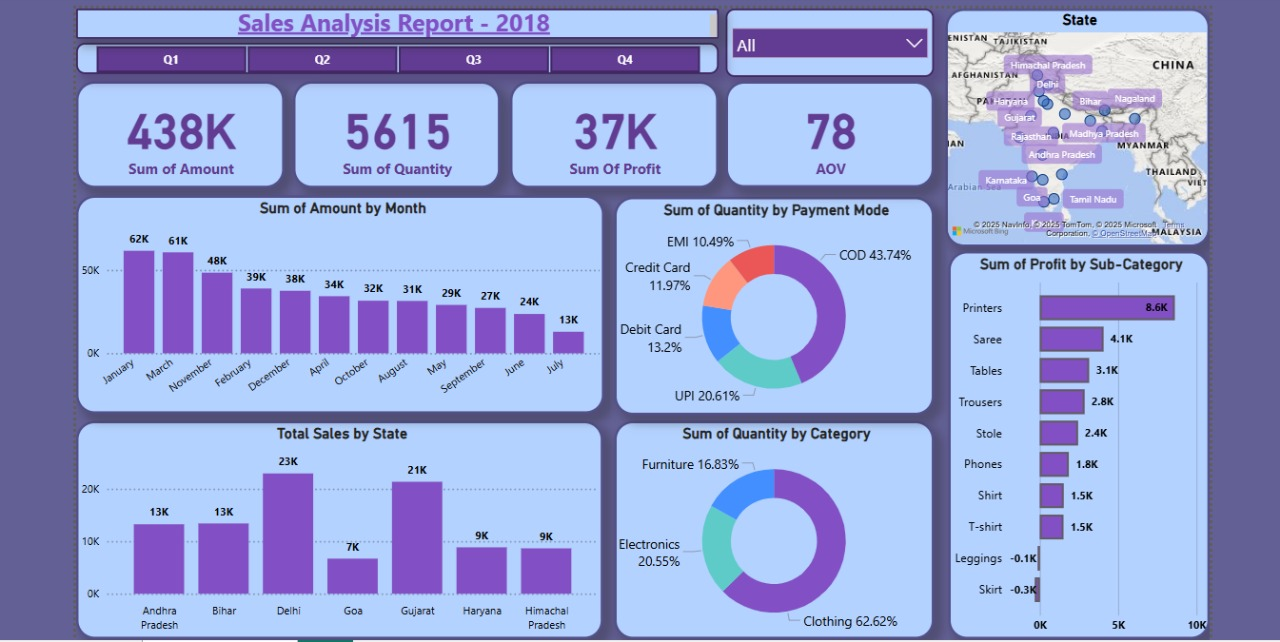

The page's visual inventory and layout, read from the dashboard file:
{"tool":"powerbi","page":{"name":"Sales Report","canvas":[1280,720],"ordinal":0},"visuals":[{"type":"card","fields":{"Values":["Sum(Details.Amount)"]},"box":[0,83,235.5,121],"z":0},{"type":"card","fields":{"Values":["Details.Sum of Quantity"]},"box":[245.2,83,233.9,121],"z":1000},{"type":"card","fields":{"Values":["Details.Sum Of Profit"]},"box":[490.3,83,235.5,121],"z":2000},{"type":"map","fields":{"Category":["Orders.State"]},"box":[982.3,0,298.4,269.4],"z":3000},{"type":"slicer","fields":{"Values":["Orders.State"]},"box":[733.9,0,235.5,77.4],"z":4000},{"type":"columnChart","title":"Total Sales by State","fields":{"Y":["Orders.Total Sales by State"],"Category":["Orders.State"]},"box":[0,466.1,595.2,246.8],"z":5000},{"type":"clusteredColumnChart","fields":{"Y":["Details.Sum of Amount"],"Category":["Orders.Month"]},"box":[0,211.3,596.8,246.8],"z":6000},{"type":"donutChart","title":"Sum of Quantity by Category","fields":{"Y":["Details.Total Quantity by Category"],"Category":["Details.Category"]},"box":[608.1,466.1,361.3,246.8],"z":7000},{"type":"donutChart","title":"Sum of Quantity by Payment Mode","fields":{"Y":["Details.Total Quantity by Payment Mode"],"Category":["Details.PaymentMode"]},"box":[608.1,212.9,361.3,246.8],"z":8000},{"type":"slicer","title":"Quarter","fields":{"Values":["Orders.QTR"]},"box":[0,38.7,725.8,35],"z":9000},{"type":"clusteredBarChart","title":"Sum of Profit by Sub-Category ","fields":{"Category":["Details.Sub-Category"],"Y":["Details.Sum of Profit by SubCategory"]},"box":[985.5,274.2,295.2,438.7],"z":10000},{"type":"card","fields":{"Values":["Details.AOV"]},"box":[733.9,83,235.5,120],"z":11001},{"type":"textbox","box":[0,0,725.8,34],"z":11002}]}

Visuals, with their boxes in screenshot pixels (x1, y1, x2, y2):
card - Sum(Details.Amount): left=73, top=80, right=281, bottom=186
card - Details.Sum of Quantity: left=289, top=80, right=495, bottom=186
card - Details.Sum Of Profit: left=505, top=80, right=713, bottom=186
map - Orders.State: left=939, top=7, right=1202, bottom=244
slicer - Orders.State: left=720, top=7, right=928, bottom=75
"Total Sales by State" columnChart: left=73, top=417, right=598, bottom=635
clusteredColumnChart - Details.Sum of Amount x Orders.Month: left=73, top=193, right=599, bottom=410
"Sum of Quantity by Category" donutChart: left=609, top=417, right=928, bottom=635
"Sum of Quantity by Payment Mode" donutChart: left=609, top=194, right=928, bottom=412
"Quarter" slicer: left=73, top=41, right=713, bottom=72
"Sum of Profit by Sub-Category " clusteredBarChart: left=942, top=248, right=1202, bottom=635
card - Details.AOV: left=720, top=80, right=928, bottom=186
textbox: left=73, top=7, right=713, bottom=37
